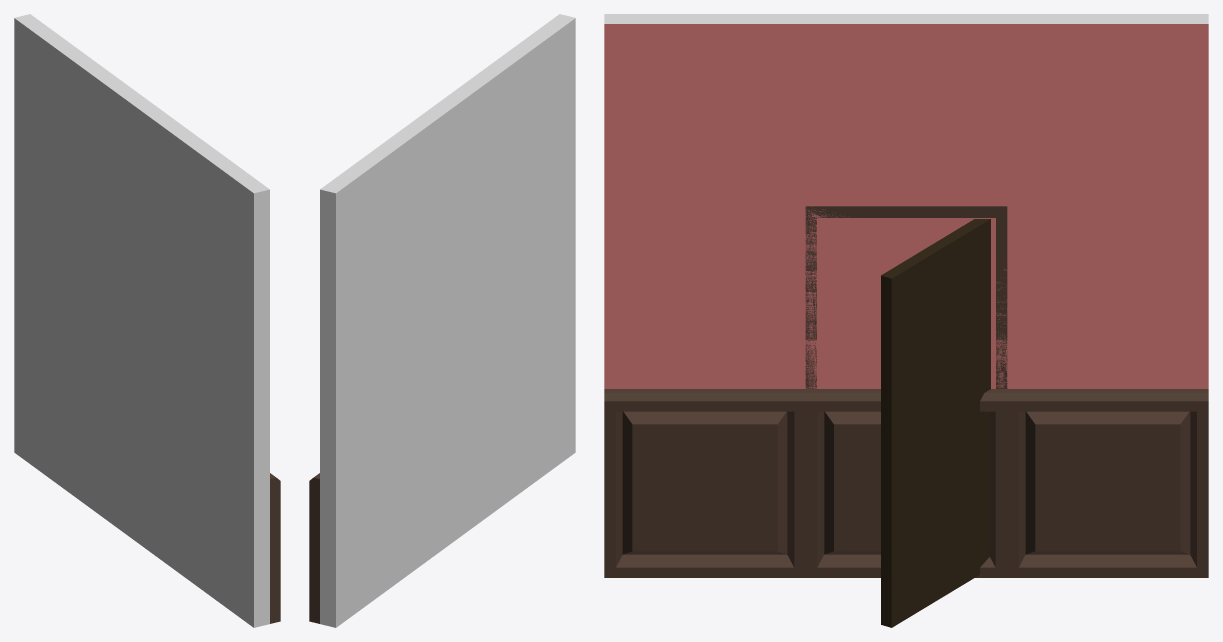
File: BetterWalls.fbx
3 views of the same model, side by side, from view 1: azimuth 30°, elevation 25°; view 2: azimuth 150°, elevation 25°; view 3: azimuth 270°, elevation 25° (orthographic). The views are drawn at different scales.
Visible parts, largest first — view 1: DoorFrame, Wall, DoorFrameClosedDoor, Window, DoorFrameOpenDoor.001; view 2: DoorFrame, Wall, Window, DoorFrameOpenDoor.001, DoorFrameClosedDoor; view 3: DoorFrameOpenDoor.001, DoorFrameClosedDoor, DoorFrame, Window, Wall.
Boxes of the visible parts, <box> form: DoorFrame: <box>14,14,280,627</box>; Wall: <box>14,99,280,626</box>; DoorFrameClosedDoor: <box>15,106,277,627</box>; Window: <box>14,76,269,624</box>; DoorFrameOpenDoor.001: <box>14,159,269,511</box>; DoorFrame: <box>309,14,575,627</box>; Wall: <box>309,20,575,621</box>; Window: <box>309,23,575,622</box>; DoorFrameOpenDoor.001: <box>309,19,575,622</box>; DoorFrameClosedDoor: <box>309,23,574,625</box>; DoorFrameOpenDoor.001: <box>604,24,1208,627</box>; DoorFrameClosedDoor: <box>604,23,1208,577</box>; DoorFrame: <box>604,14,1208,577</box>; Window: <box>604,24,1208,577</box>; Wall: <box>604,24,1208,577</box>.
Size of the model in its own units: 191 by 700 by 700.
